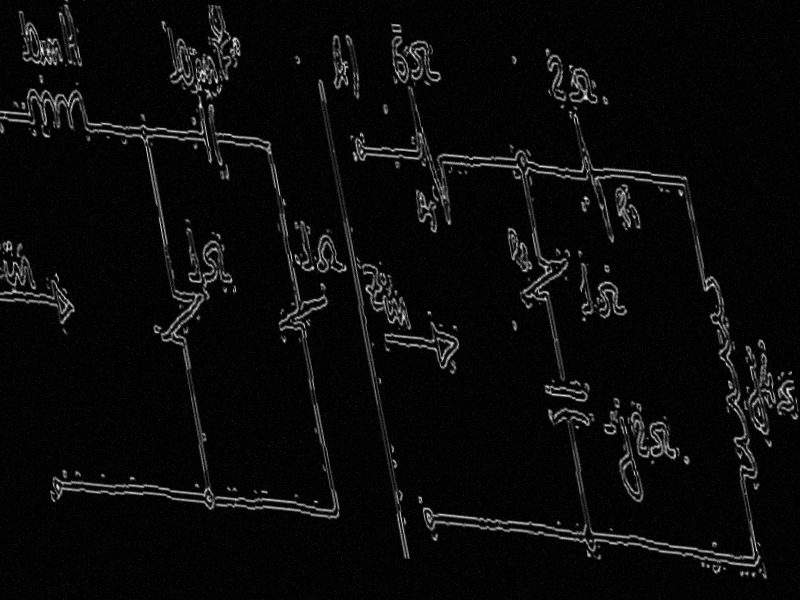-: (600, 416, 620, 440), (389, 23, 404, 35)
0: (173, 32, 197, 87), (22, 17, 45, 66)
1: (569, 249, 597, 323), (157, 20, 186, 89), (177, 218, 203, 286), (292, 215, 317, 277), (12, 4, 35, 66)
2: (544, 51, 571, 104), (628, 409, 653, 461), (514, 238, 535, 277)
3: (628, 203, 643, 232)
4: (751, 346, 780, 408)
5: (424, 199, 441, 235)
6: (386, 31, 412, 85)
F: (210, 24, 240, 85)
H: (55, 0, 85, 70)
m: (35, 32, 65, 70), (190, 52, 220, 86)
